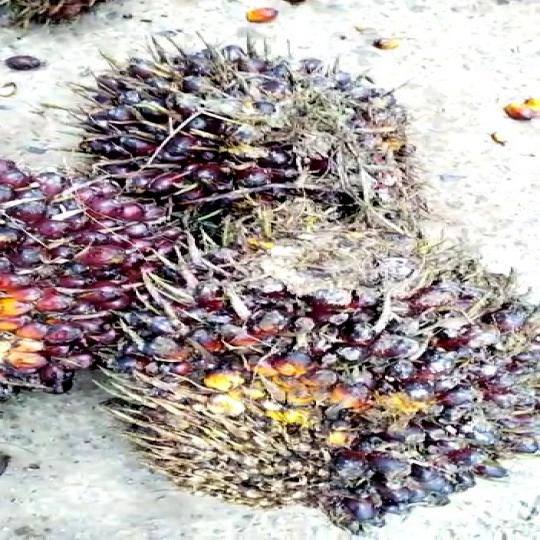kurang masak: (115, 203, 535, 520), (81, 29, 430, 216), (0, 164, 179, 406)
